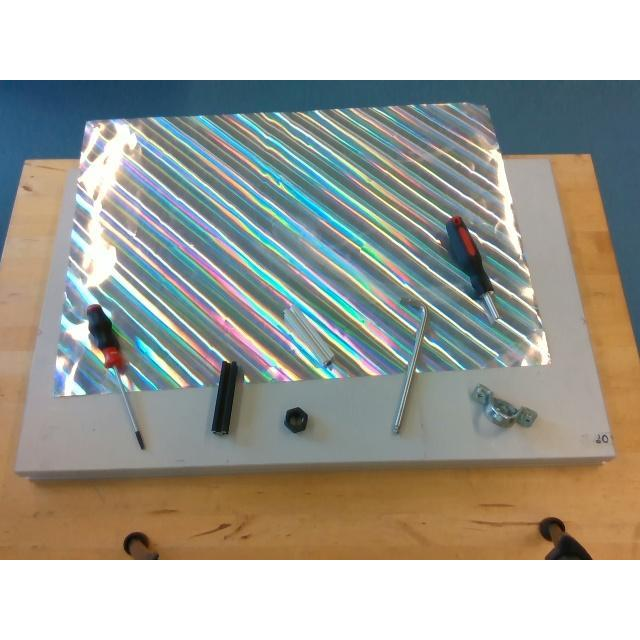AllenKey: (392, 298, 428, 434)
F20_20_B: (212, 361, 240, 433)
F20_20_G: (282, 302, 334, 366)
Housing: (471, 384, 537, 426)
M20: (284, 408, 308, 432)
